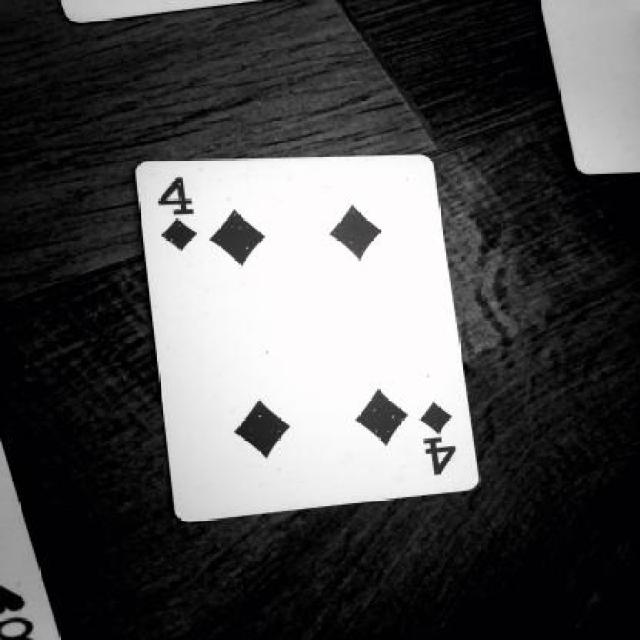4D: (410, 388, 476, 482), (154, 162, 206, 264)
